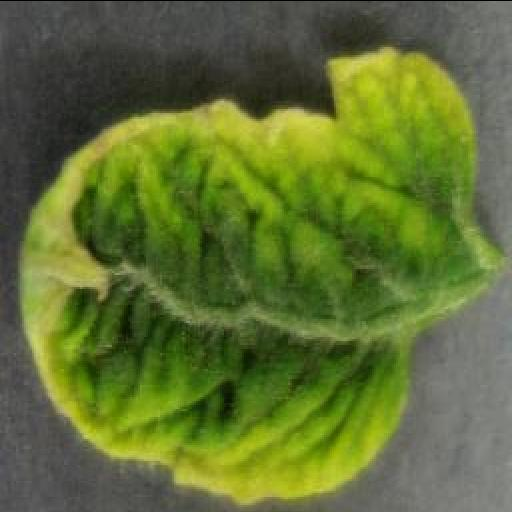disease_tomato: (14, 42, 502, 500)
